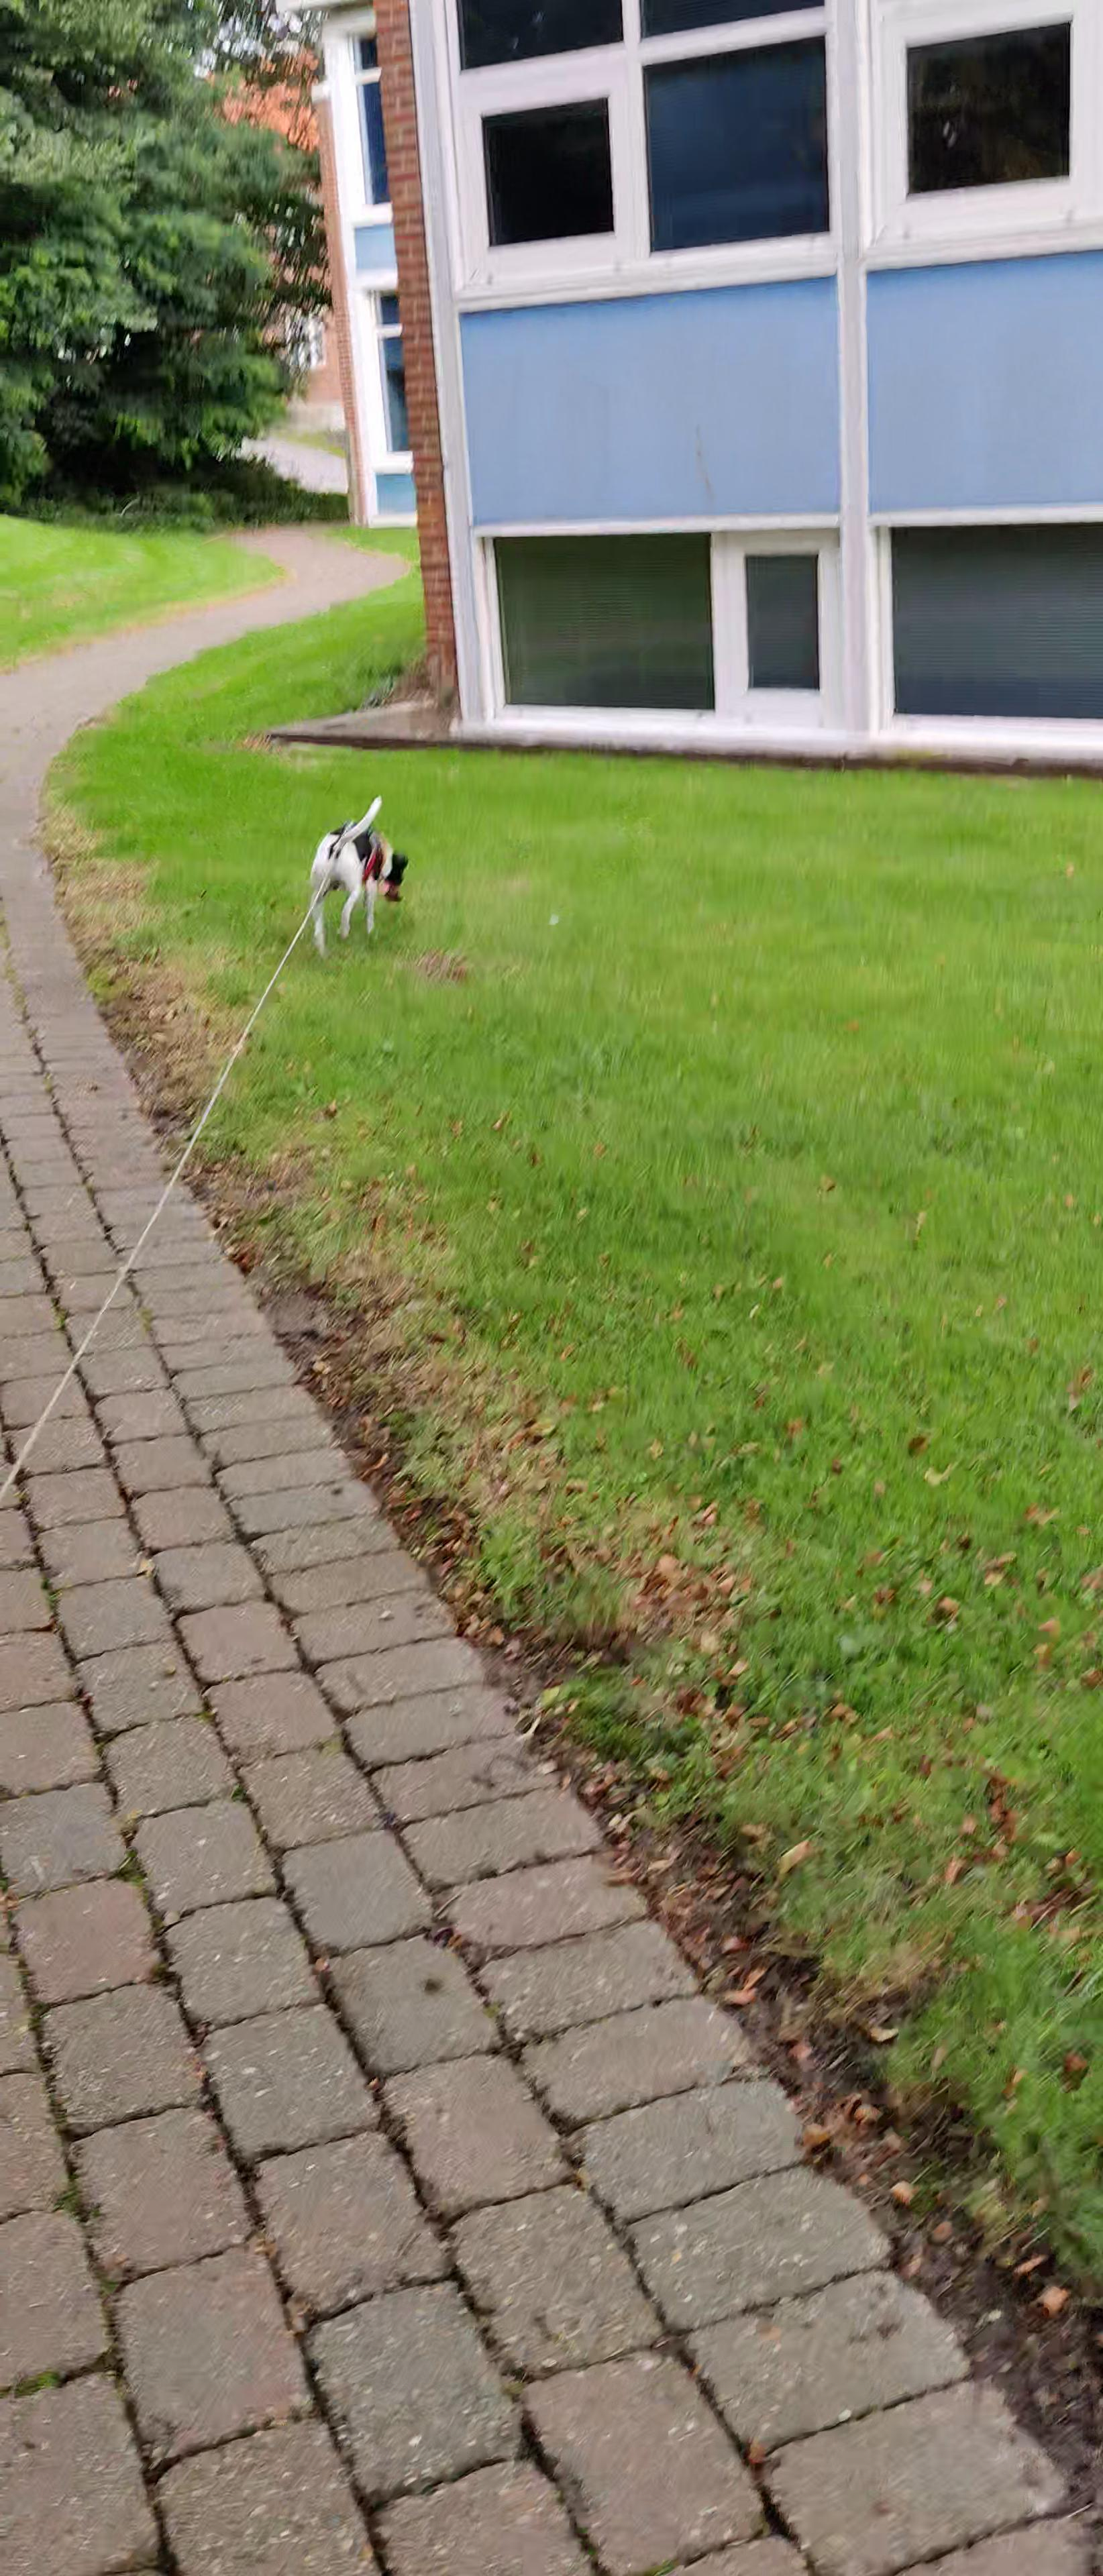Dog: (298, 787, 418, 963)
